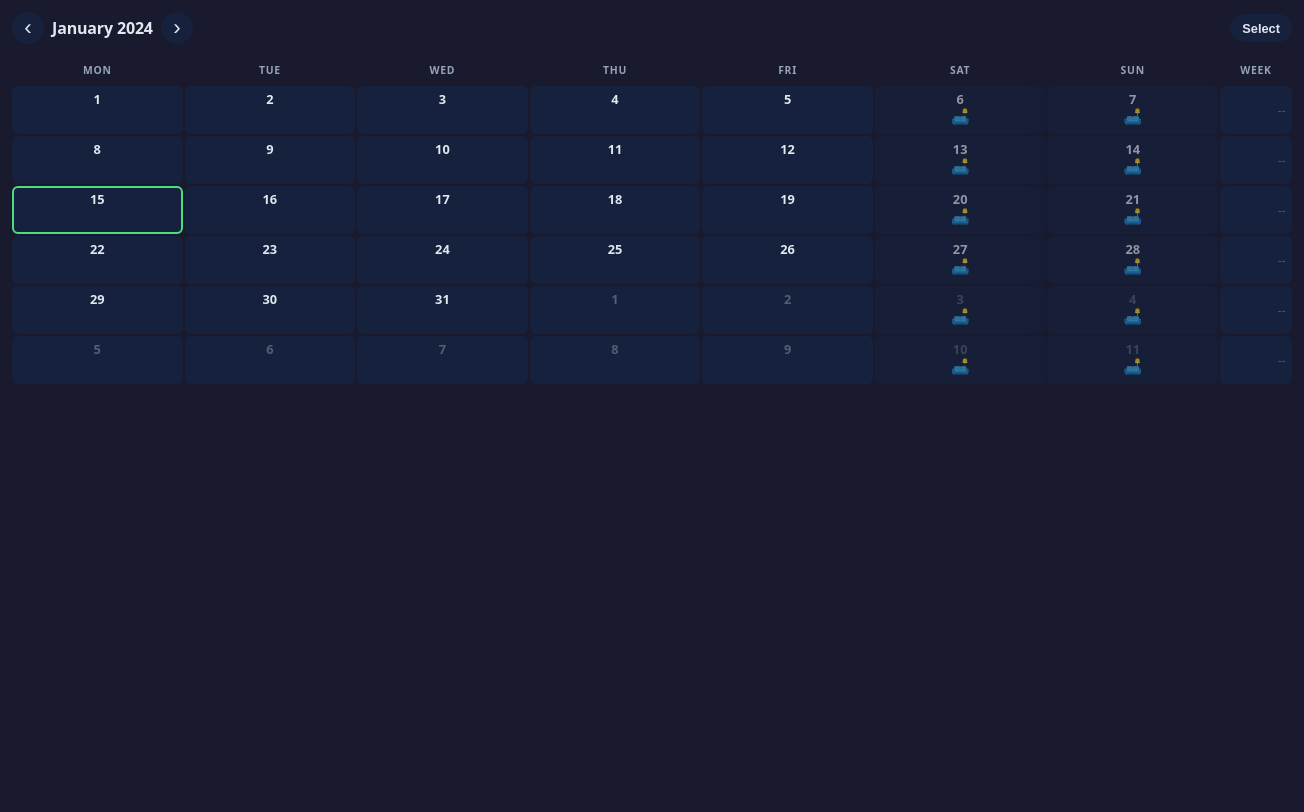
Test case: CalendarView › enters select mode, selects days, and applies a bulk day-off type
The width and height of the screenshot is (1304, 812).
Click the button "Select": (1261, 28) [1230,14,1292,42]
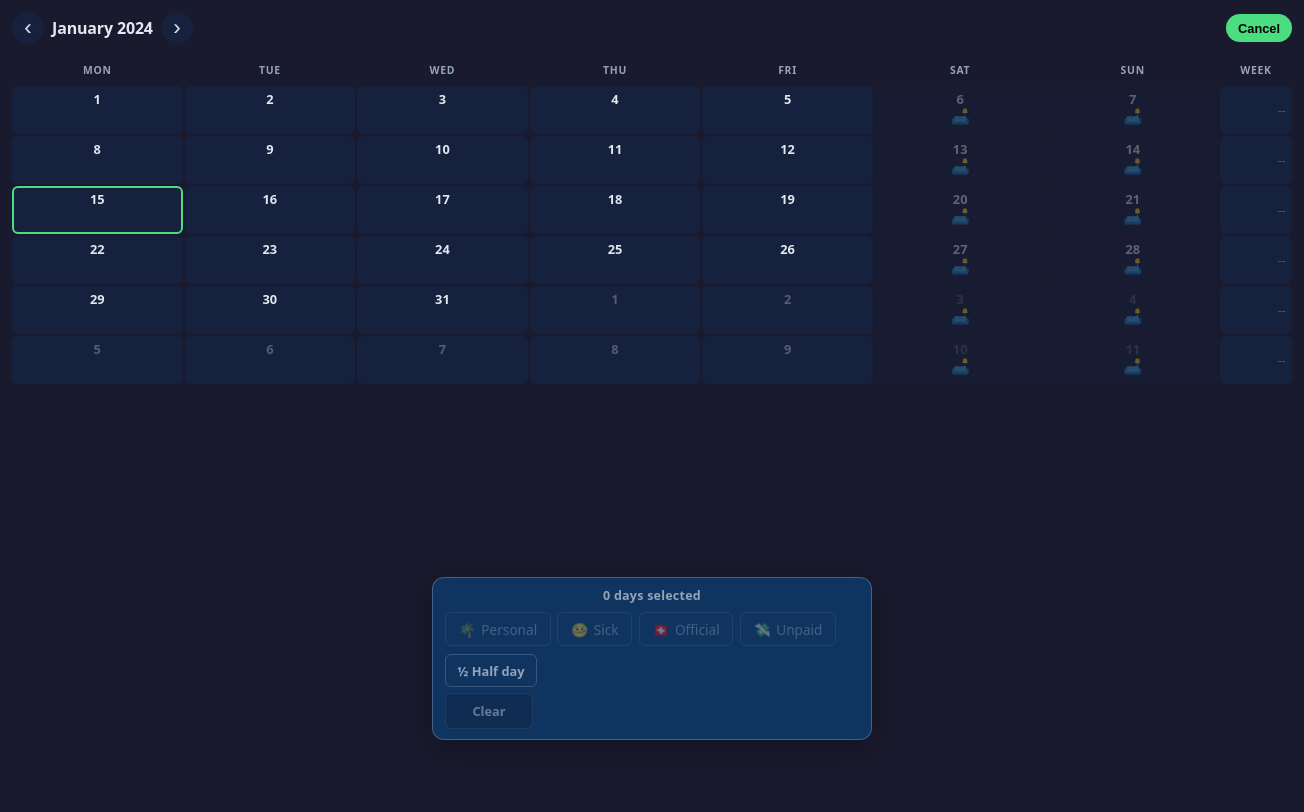
Expected: the button "Cancel" is shown, [1226,14,1292,42]
Click the button with class "cal-day" showing "10": (442, 160) [357,136,528,184]
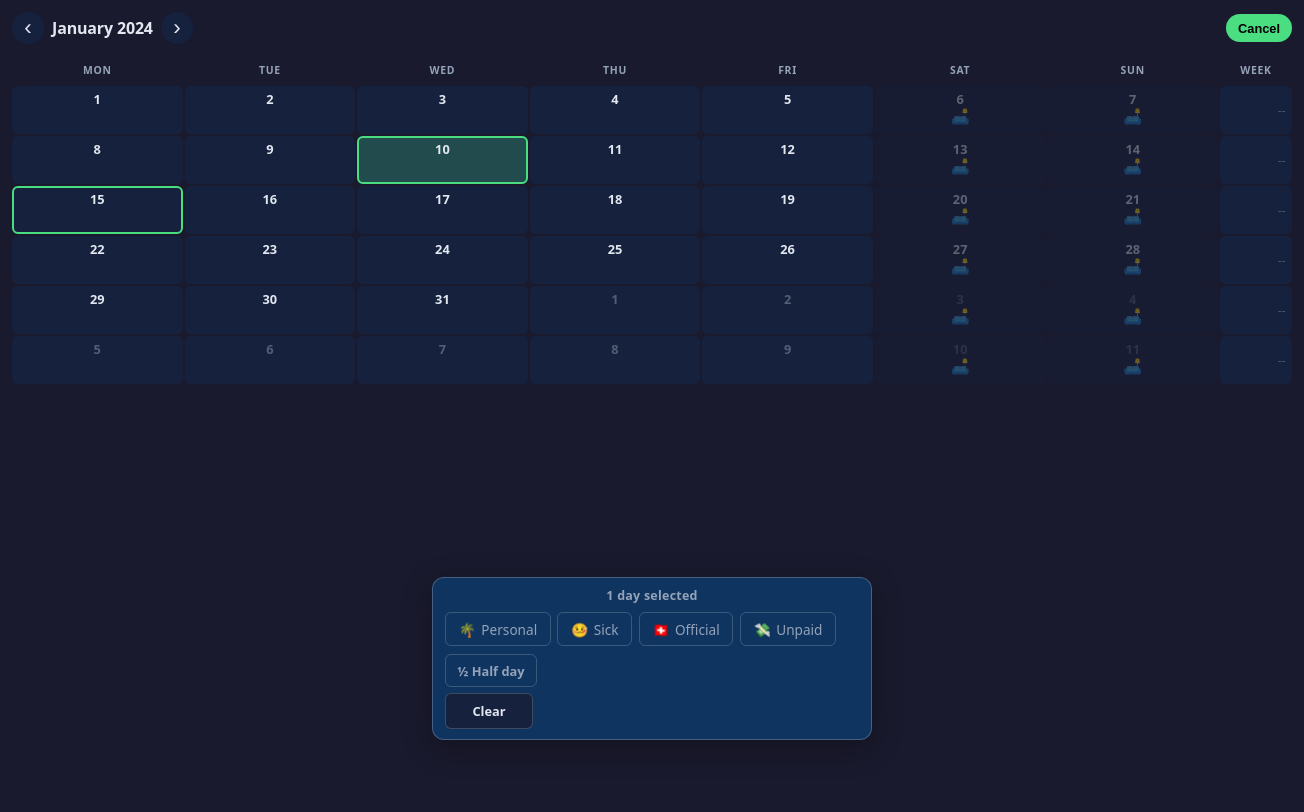
Expected: the text "1 day selected" is shown, [606,588,698,604]
Click the button "🌴 Personal": (498, 629) [445,612,551,646]
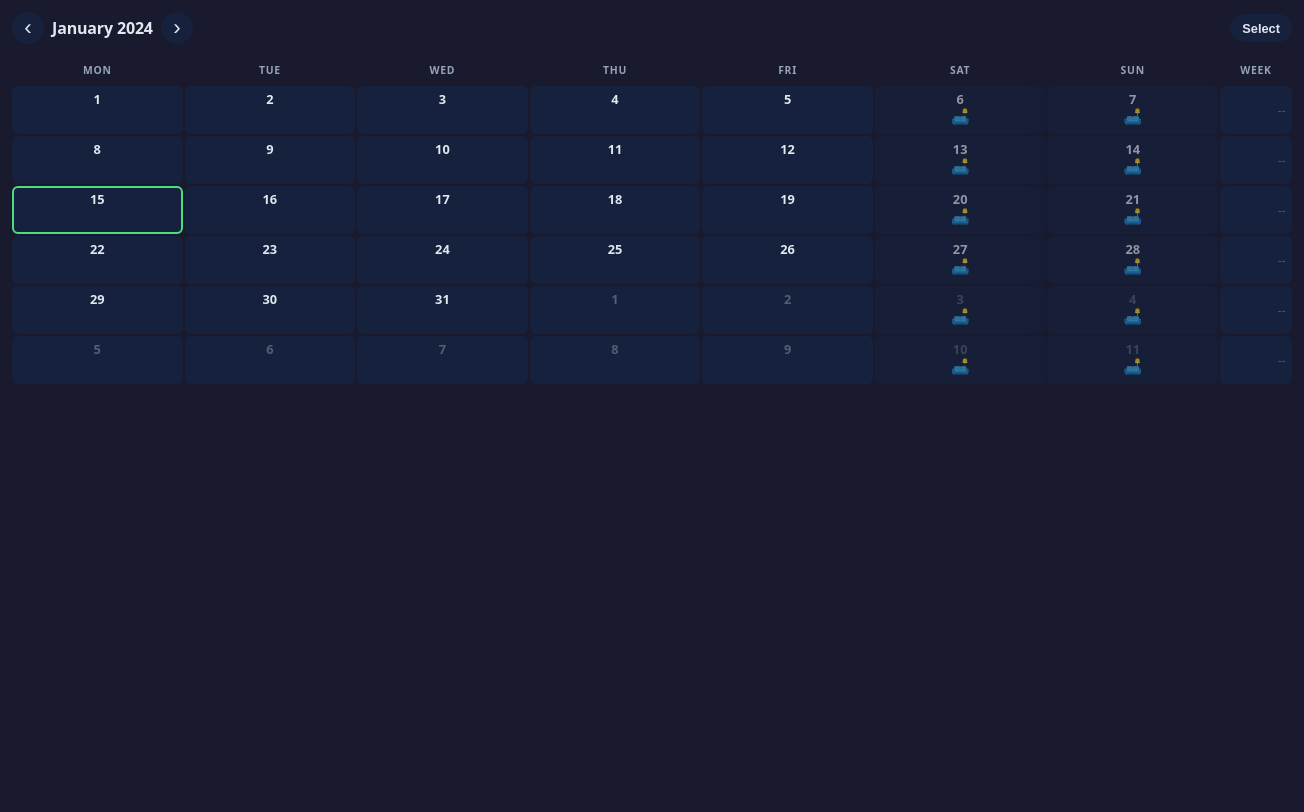
Expected: the button "Cancel" is gone
